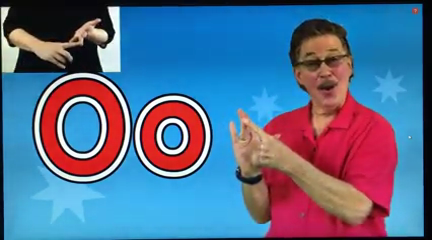O: (226, 109, 297, 172), (39, 18, 103, 70)
